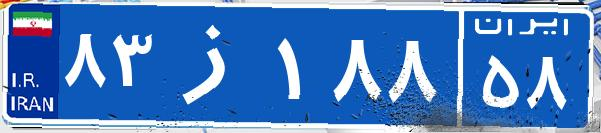1: (273, 28, 330, 110)
3: (110, 28, 158, 105)
5: (475, 38, 525, 113)
8: (385, 28, 445, 110), (330, 28, 385, 110), (57, 26, 110, 107), (525, 38, 570, 115)
ز: (158, 15, 273, 115)
